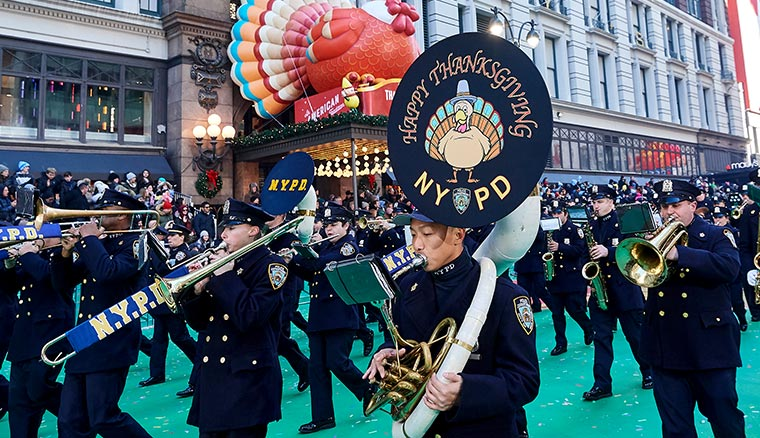feet: (294, 363, 389, 434), (581, 360, 664, 402), (141, 345, 201, 387), (546, 319, 601, 357), (729, 298, 760, 332)
